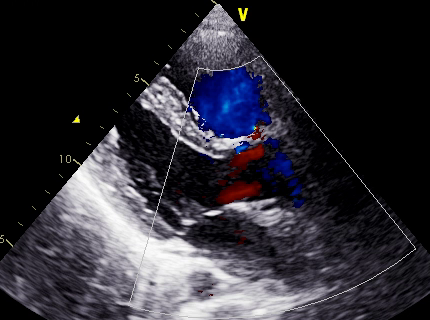AR: (216, 146, 279, 222)
